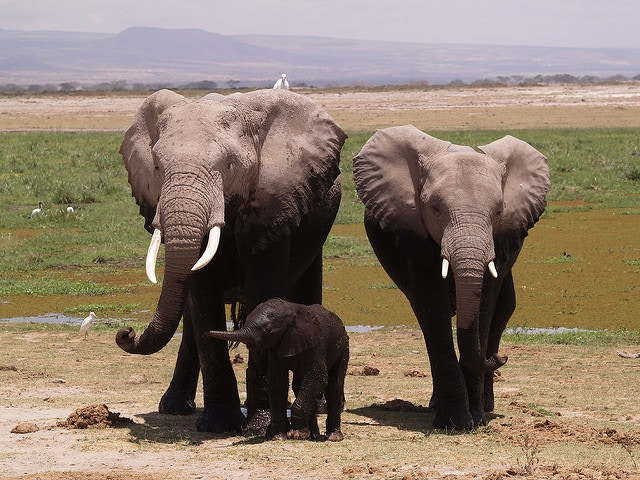elephant: (107, 71, 346, 435), (352, 118, 563, 435), (198, 298, 370, 450)
